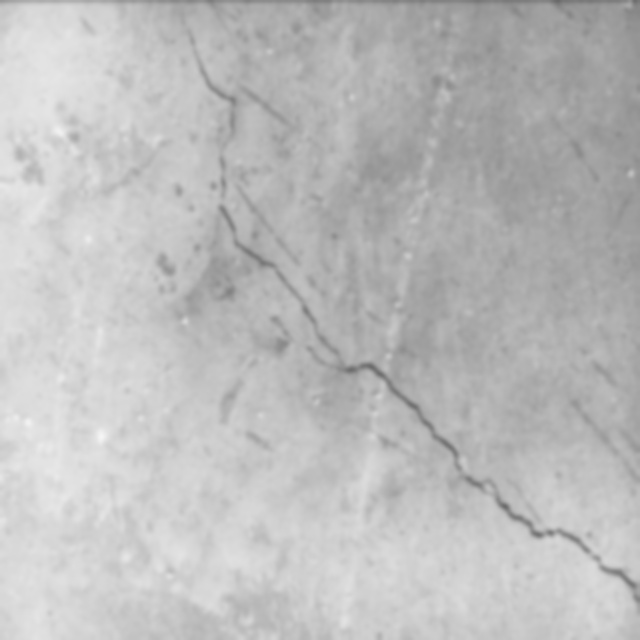SurfaceCrack: (183, 0, 638, 639)
